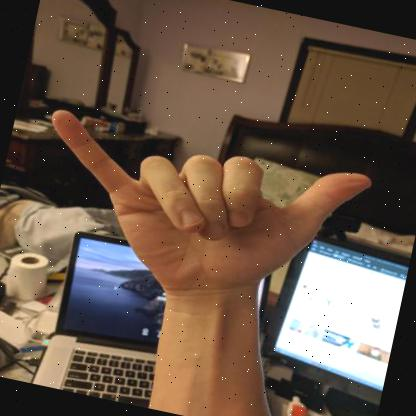Y: (51, 109, 371, 311)
